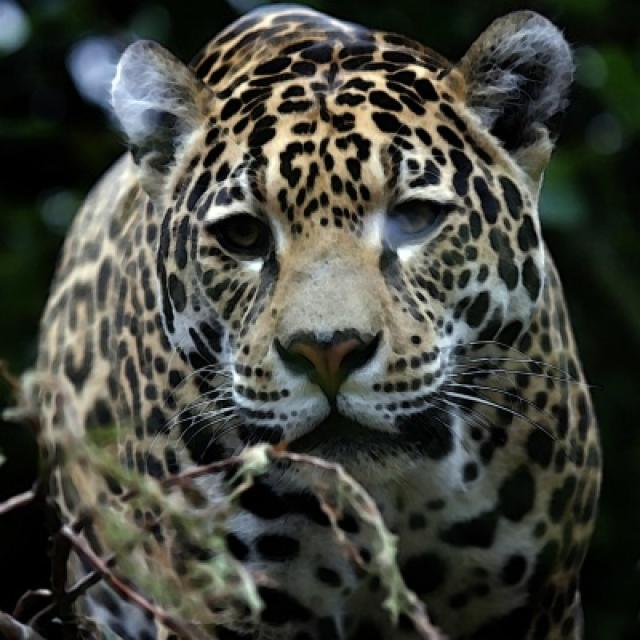not_pig: (6, 1, 604, 638)
